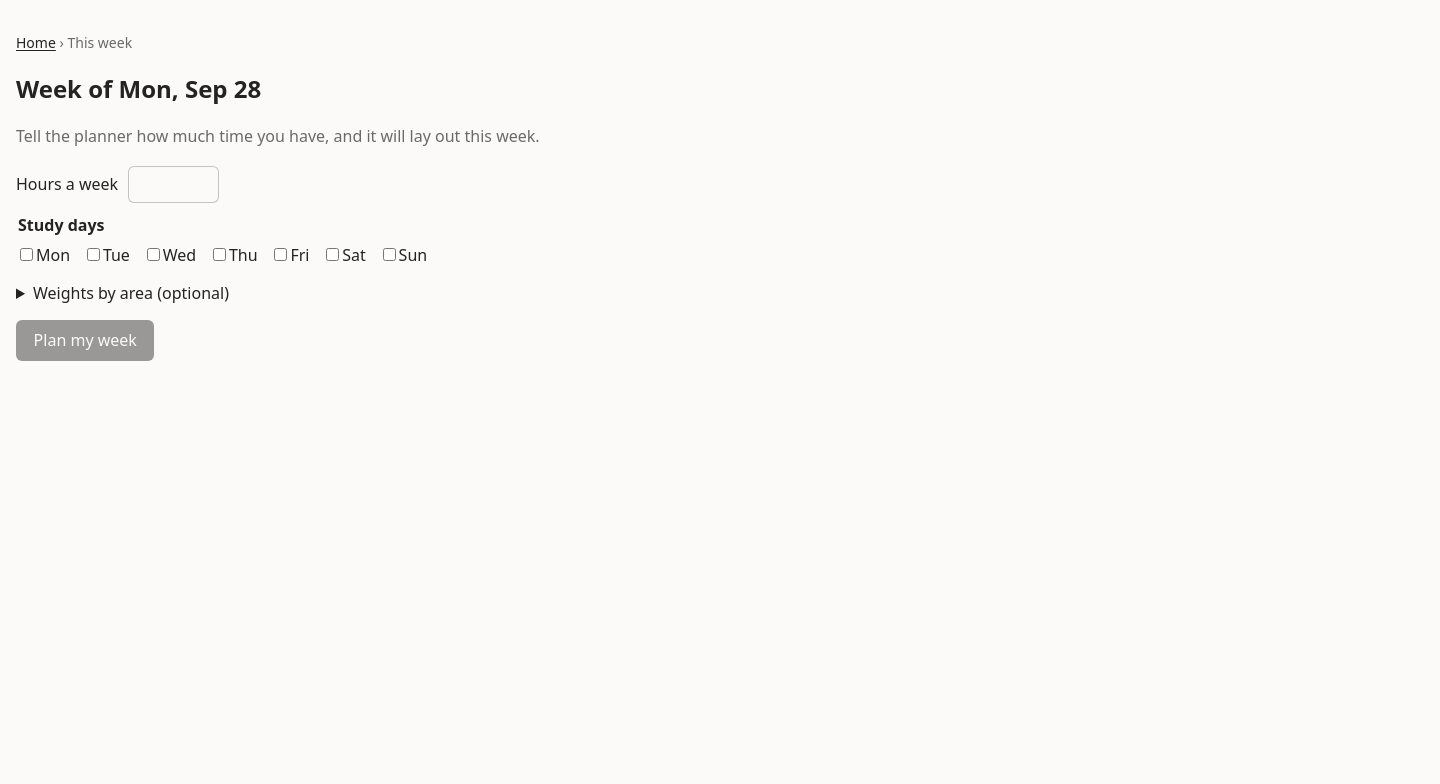
WeekPage › asks for hours and days first, then plans the week
The image size is (1440, 784).
Expected: the button "Plan my week" is disabled, [16,320,154,361]
Type "9" into the number field labelled "Hours a week".
click(174, 184); type("9")  # box [128,166,219,203]
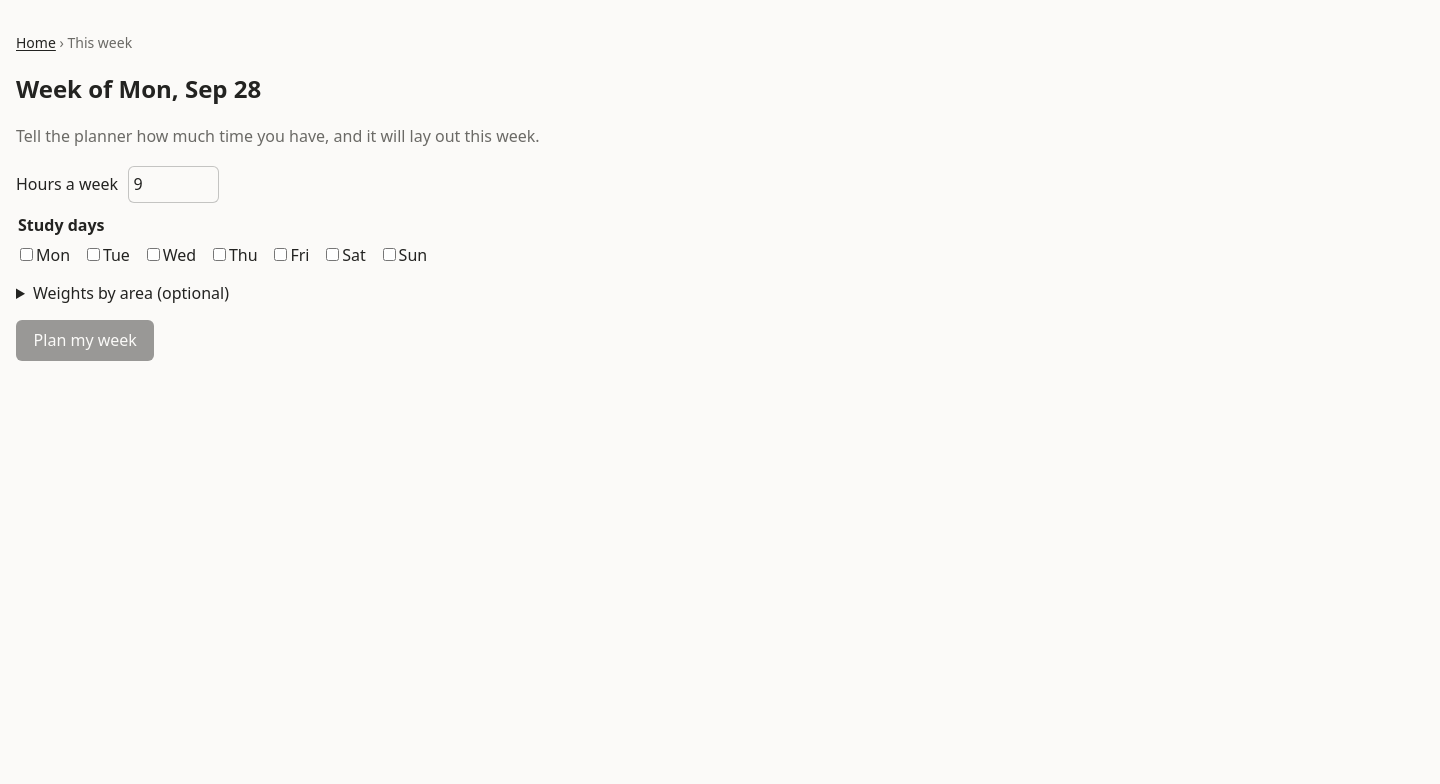
Click the checkbox labelled "Mon".
click(26, 254)  # box [20,248,33,261]
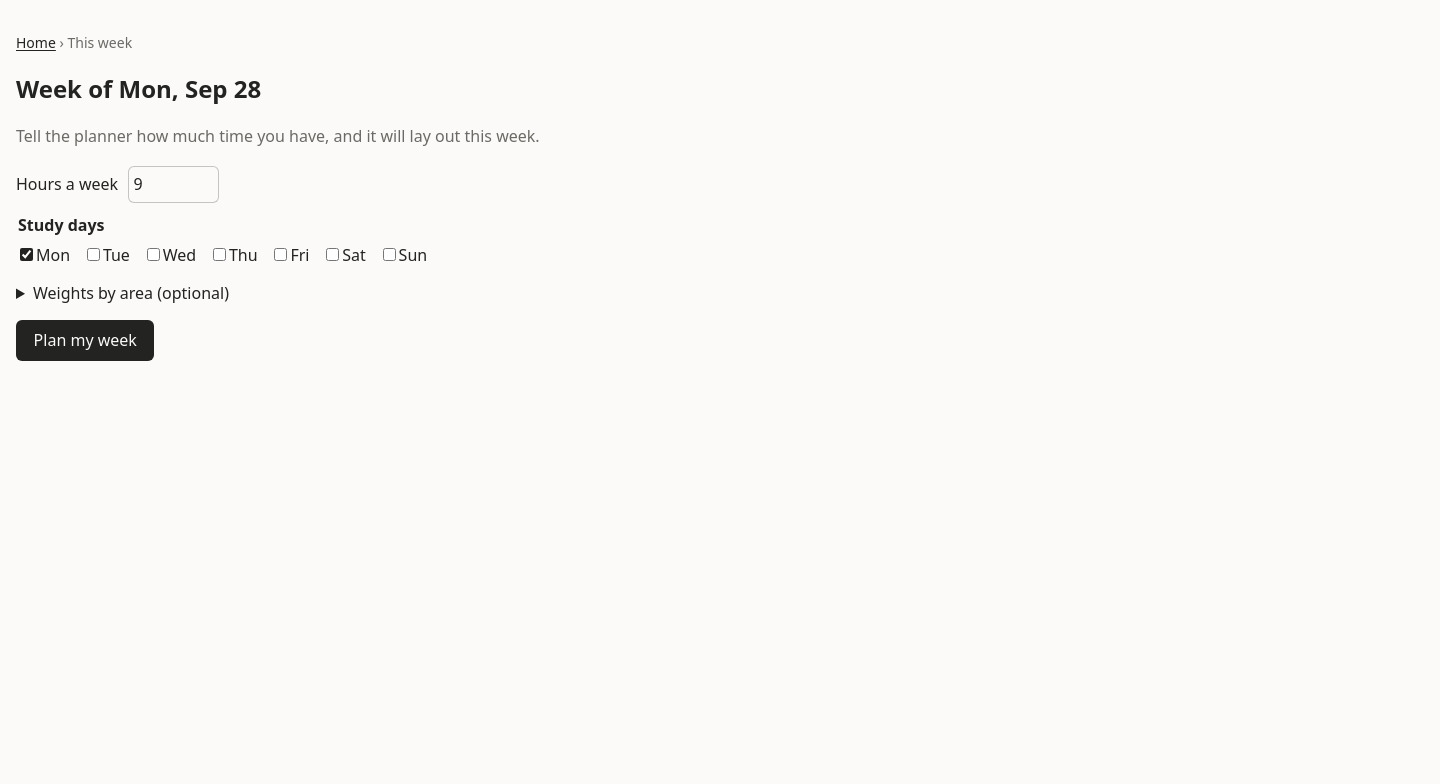
Click the checkbox labelled "Wed".
click(153, 254)  # box [147,248,160,261]
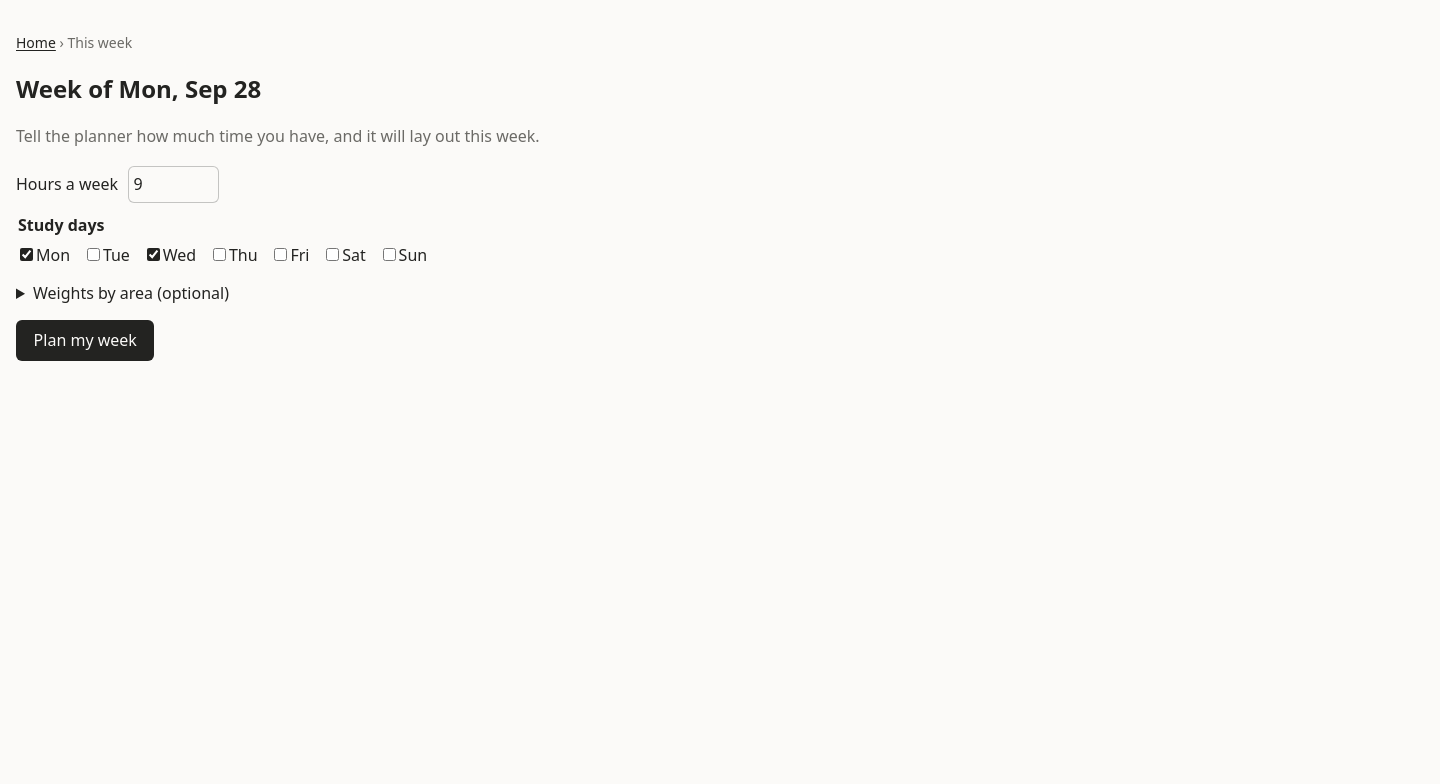
Expected: the button "Plan my week" is enabled
Click the button "Plan my week".
click(85, 341)  # box [16,320,154,361]
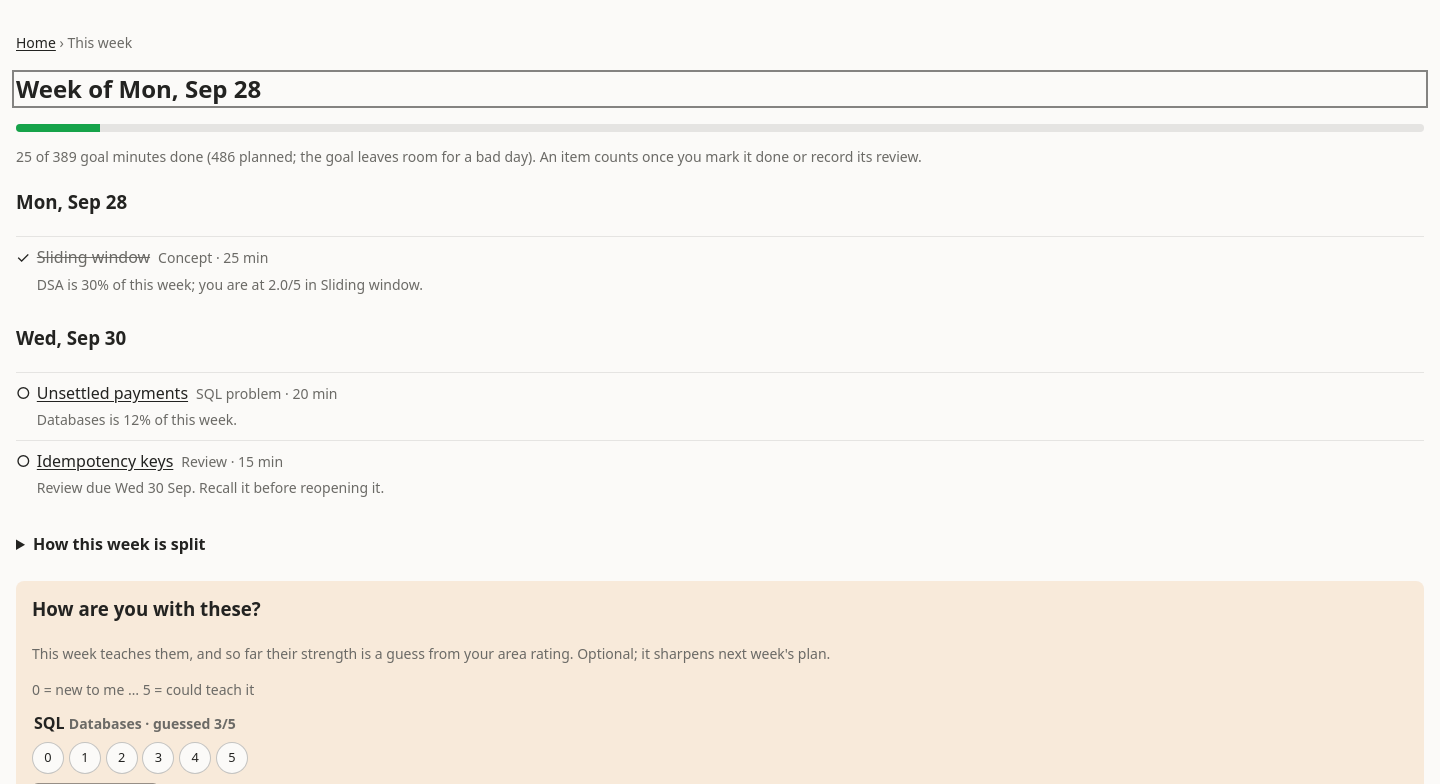
Expected: the link "Sliding window" is shown, [37,245,150,271]
